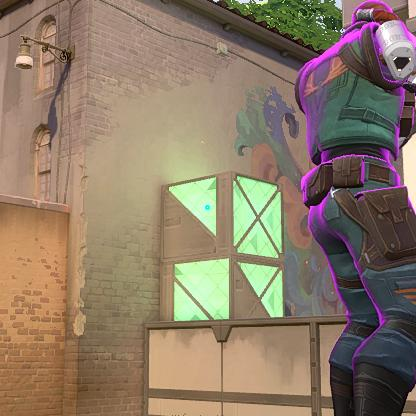enemyBody: (332, 52, 390, 129)
enemyHead: (362, 15, 391, 36)
